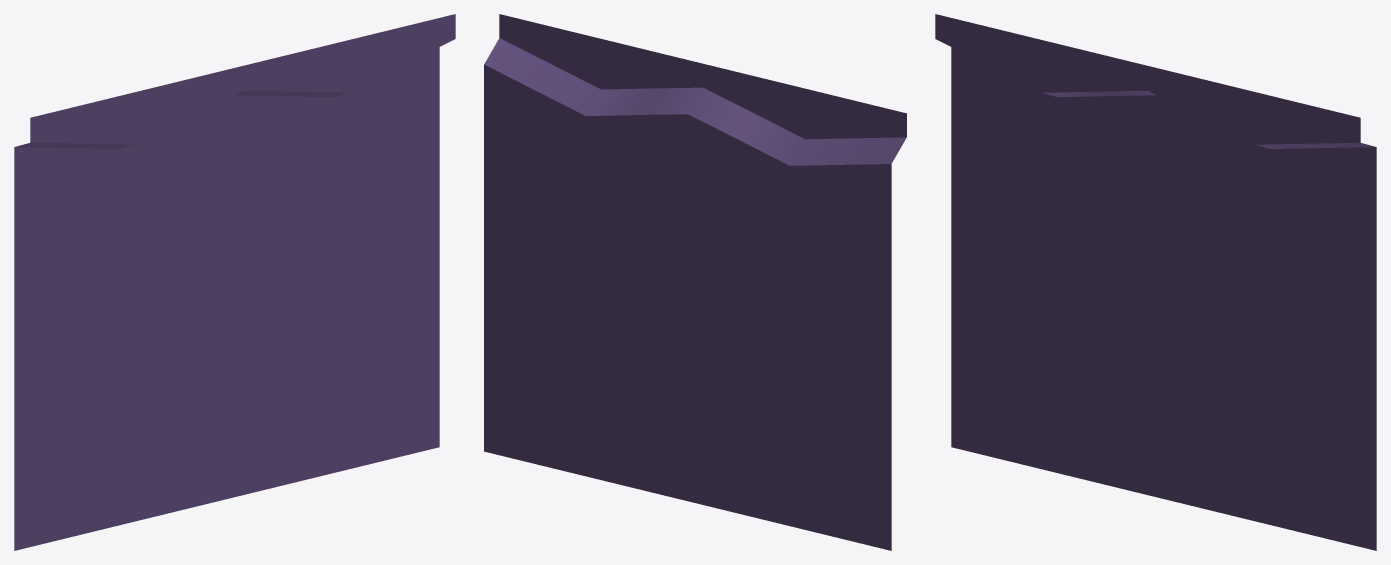
File: wall FLR2.fbx
3 renders of one model, left to right at view 1: azimuth 30°, elevation 25°; view 2: azimuth 150°, elevation 25°; view 3: azimuth 330°, elevation 25°, orthographic. The views are drawn at different scales.
Parts seen in each view (by area): view 1: wall; view 2: wall; view 3: wall.
Boxes of the visible parts, <box> form: wall: <box>14,14,455,550</box>; wall: <box>484,14,906,550</box>; wall: <box>935,14,1376,550</box>.
Bounding box in the file's own units: 5 × 5 × 0.3256.
